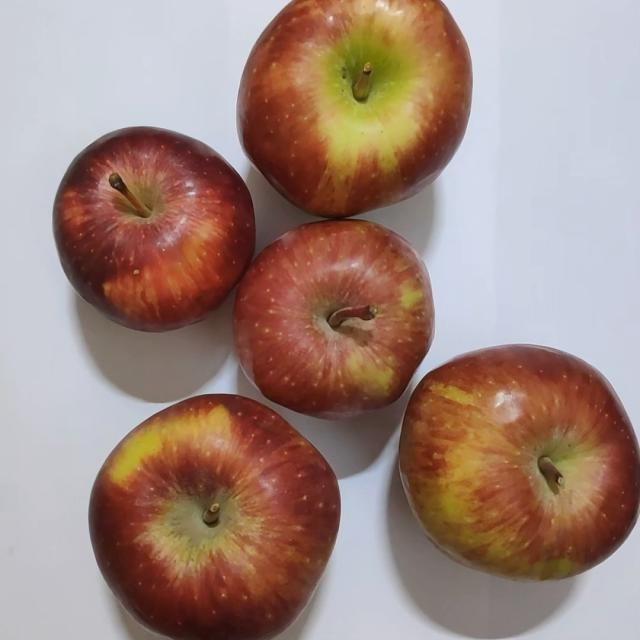apple: (96, 399, 340, 639), (383, 347, 618, 594), (234, 12, 458, 250), (62, 151, 262, 359), (231, 236, 430, 429)
